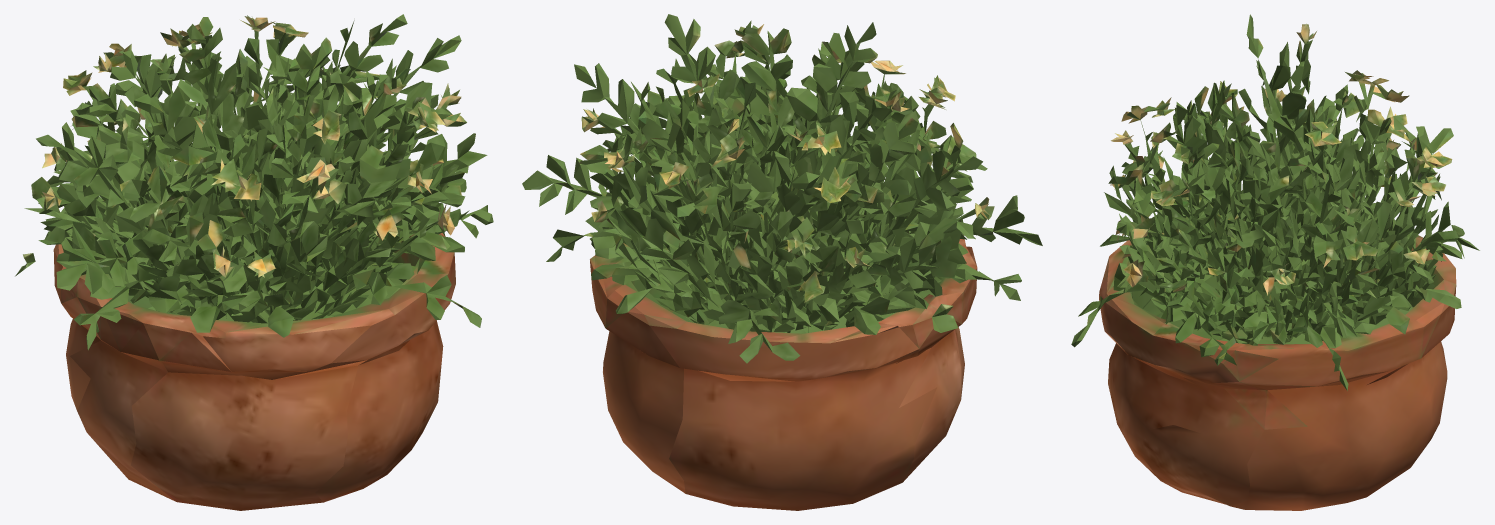
File: planter.glb
3 views of the same model, side by side, from view 1: azimuth 30°, elevation 25°; view 2: azimuth 150°, elevation 25°; view 3: azimuth 270°, elevation 25° (orthographic). The views are drawn at different scales.
Parts seen in each view (by area): view 1: Mesh_0; view 2: Mesh_0; view 3: Mesh_0.
Part boxes in pixels (box(x1,y1,x2,y2)): Mesh_0: box(15, 14, 493, 510); Mesh_0: box(522, 14, 1042, 510); Mesh_0: box(1071, 14, 1479, 510).
Size of the model in its own units: 1.9 by 1.77 by 1.59.
Materials: 1 (1 with a texture image).
